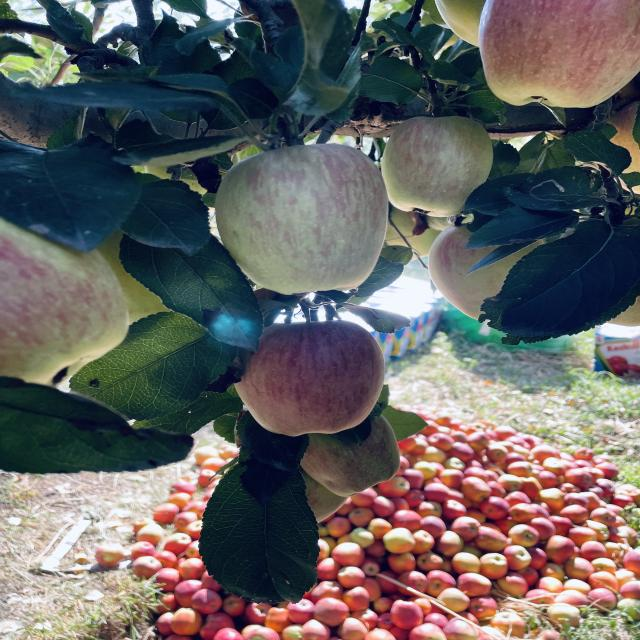Apple: (215, 144, 388, 295), (0, 219, 128, 384), (478, 0, 640, 108), (235, 320, 385, 436), (382, 116, 493, 216), (428, 225, 533, 319), (313, 598, 350, 626), (390, 600, 423, 630), (200, 612, 235, 640), (457, 572, 492, 598), (545, 535, 575, 564), (170, 608, 202, 635), (475, 526, 508, 552), (547, 602, 580, 628), (383, 528, 415, 554), (460, 476, 492, 502), (173, 580, 202, 608), (192, 589, 223, 615), (450, 516, 482, 541), (332, 542, 365, 566), (437, 588, 470, 612), (480, 552, 508, 580), (427, 570, 457, 596), (443, 618, 478, 640), (508, 524, 540, 548), (478, 496, 510, 520), (95, 544, 125, 568), (497, 575, 528, 598), (408, 622, 447, 640), (287, 599, 315, 624), (342, 586, 370, 611), (435, 531, 463, 556), (310, 581, 343, 602), (132, 556, 162, 579), (468, 596, 498, 619), (390, 510, 422, 531), (243, 602, 272, 625), (338, 618, 368, 640), (565, 558, 595, 580), (265, 608, 292, 632), (337, 566, 365, 589), (387, 552, 415, 574), (178, 558, 205, 580), (420, 516, 447, 538), (153, 502, 180, 524), (155, 568, 180, 591), (555, 590, 590, 606), (367, 518, 393, 539), (317, 558, 340, 581), (222, 595, 247, 616), (417, 551, 443, 571), (130, 541, 157, 560), (350, 528, 375, 548), (525, 589, 555, 605), (522, 476, 542, 500), (563, 579, 592, 595), (362, 578, 382, 601), (153, 550, 177, 568), (537, 576, 563, 592), (365, 540, 387, 558), (373, 598, 393, 614)
